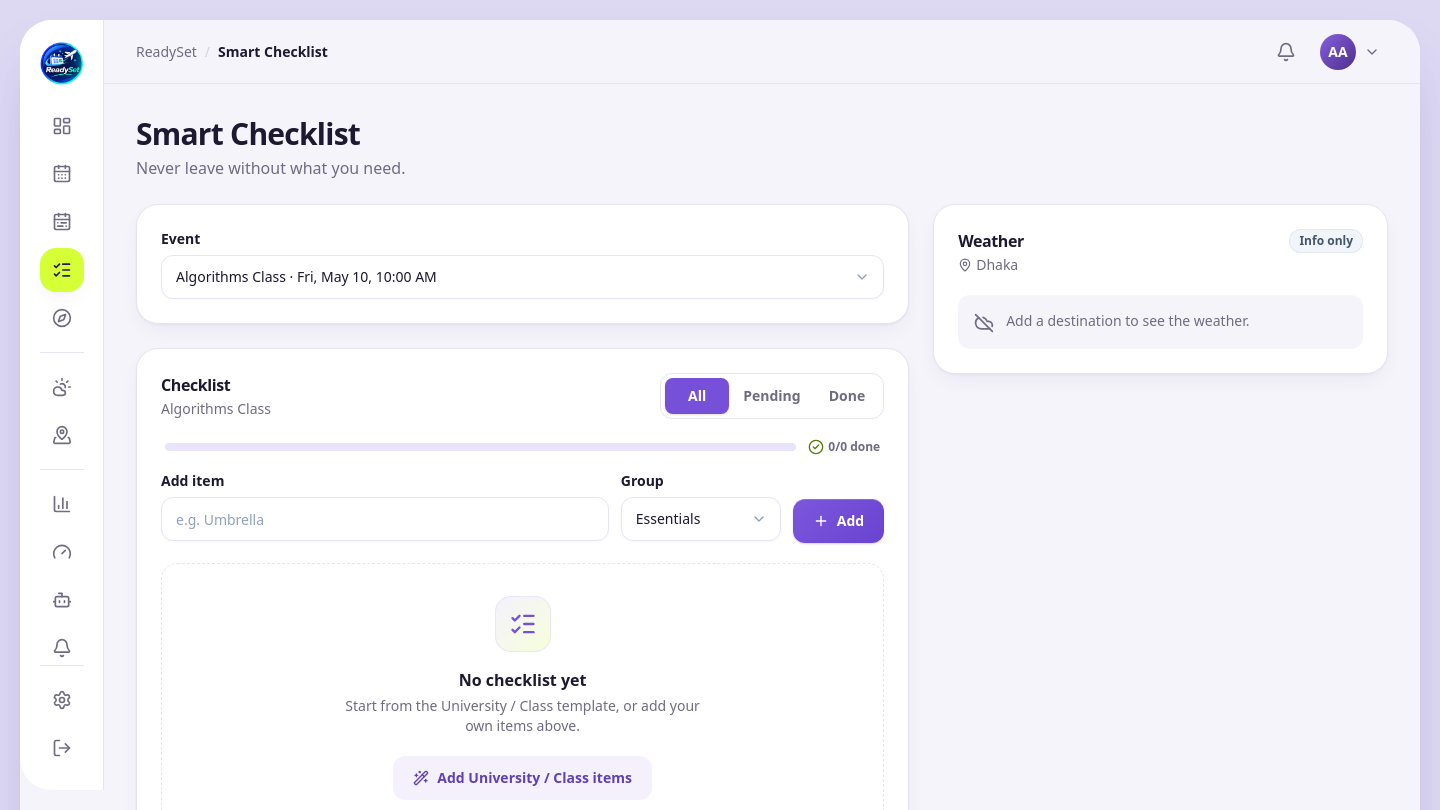
Scenario: Smart Checklist page (database-backed) › shows an empty state with a category template; applying it lists the items and progress
Expected: the heading "No checklist yet" is shown, left=459, top=668, right=586, bottom=692
Expected: the element with test id "checklist-progress" reads "0/0 done", left=161, top=439, right=884, bottom=455
What coordinates should you click on to do the following:
click the button "Add University / Class items"
I would click on:
 (523, 778)
Its box is left=393, top=756, right=652, bottom=800.
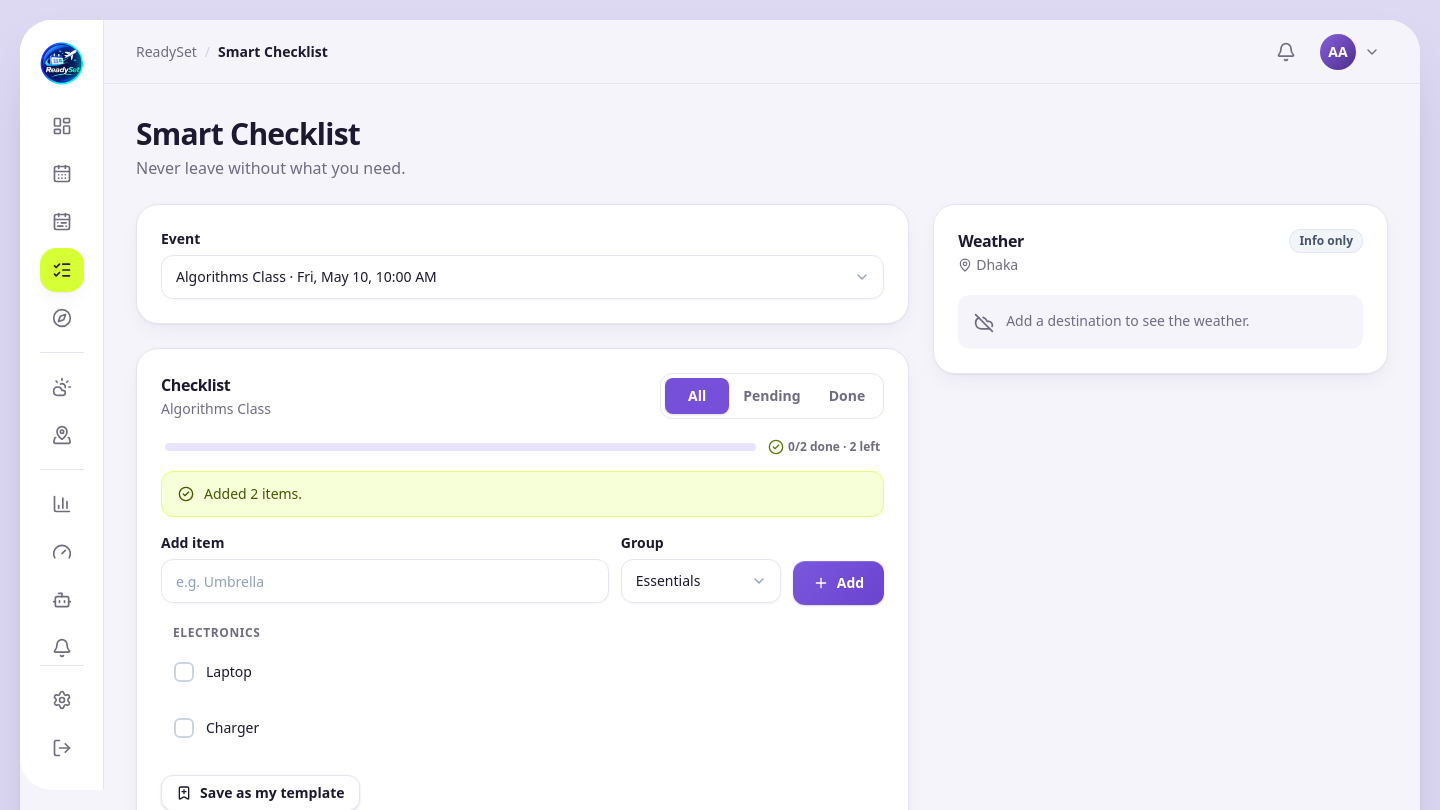
Now the text "Laptop" is shown, box left=206, top=662, right=252, bottom=682
Now the text "Charger" is shown, box left=206, top=718, right=259, bottom=738
Now the element with test id "checklist-progress" shows "0/2 done", box left=161, top=439, right=884, bottom=455
